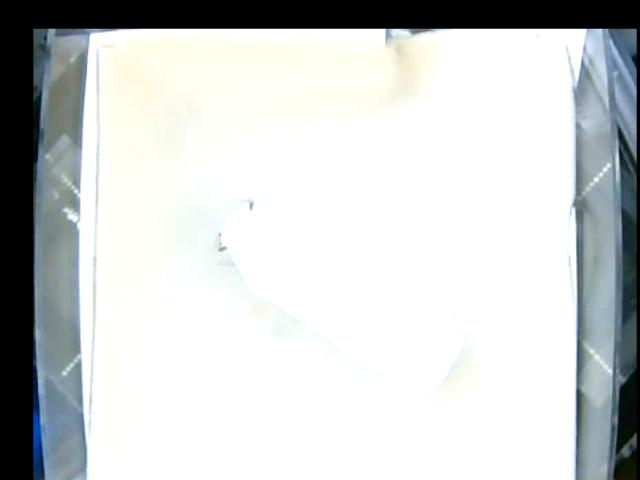Bottle: (215, 197, 462, 395)
